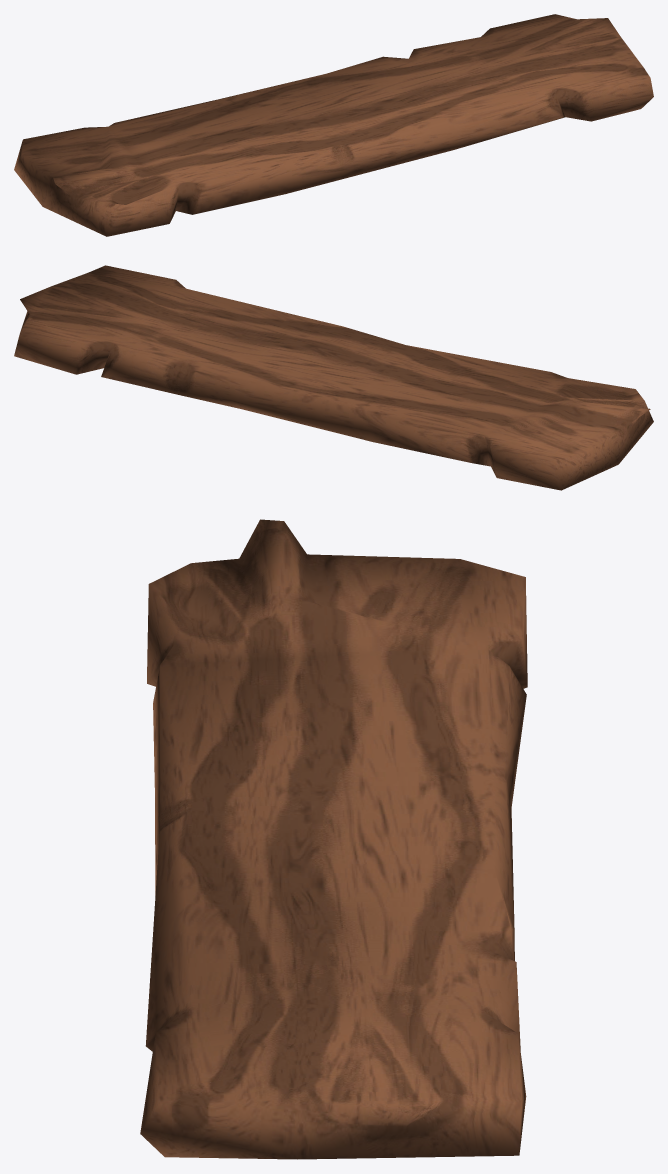
File: woodenplank.glb
The picture shows the model from 3 angles, top to bottom: view 1: azimuth 30°, elevation 25°; view 2: azimuth 150°, elevation 25°; view 3: azimuth 270°, elevation 25°; orthographic projection. The views are drawn at different scales.
Parts seen in each view (by area): view 1: woodenplank; view 2: woodenplank; view 3: woodenplank.
Part boxes in pixels (box(x1,y1,x2,y2)): woodenplank: box(14, 14, 653, 236); woodenplank: box(14, 265, 653, 490); woodenplank: box(140, 519, 527, 1159).
Bounding box in the file's own units: 2.44 × 0.1798 × 0.6916.
Materials: 1 (1 with a texture image).
